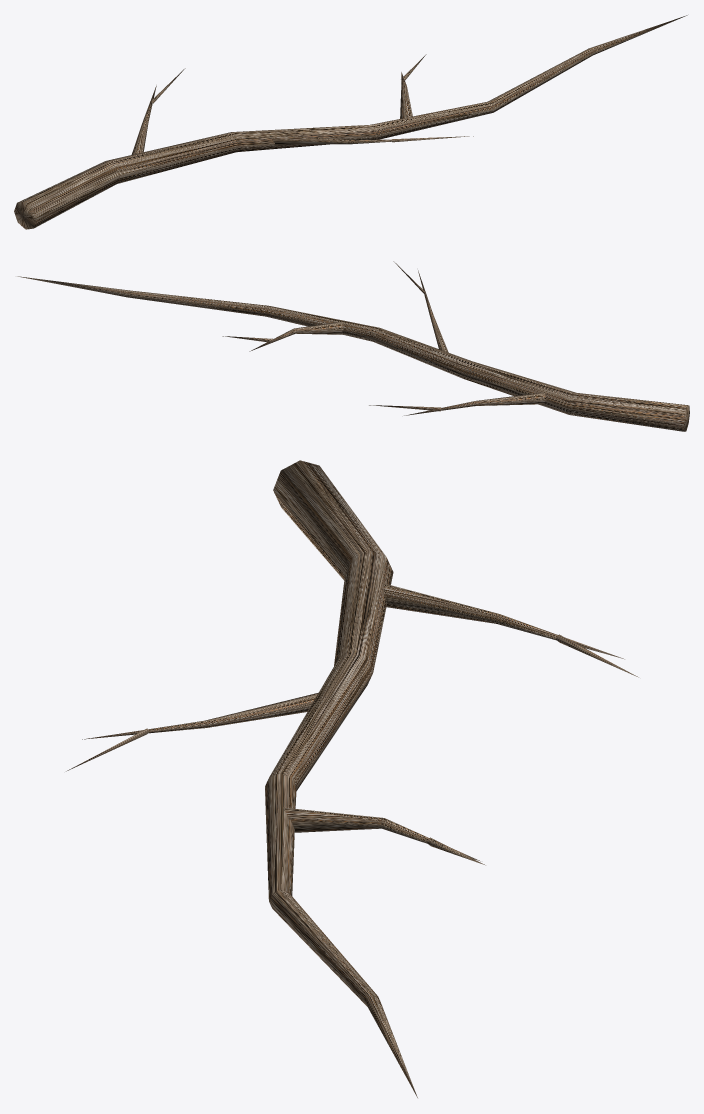
The model's file is fallen-bare-twig.glb.
3 renders of one model, top to bottom at view 1: azimuth 30°, elevation 25°; view 2: azimuth 150°, elevation 25°; view 3: azimuth 270°, elevation 25°, orthographic. The views are drawn at different scales.
Visible parts, largest first — view 1: bare-twig; view 2: bare-twig; view 3: bare-twig.
Part boxes in pixels (x1,y1,x2,y2): bare-twig: (14, 15, 687, 229); bare-twig: (17, 261, 689, 431); bare-twig: (66, 460, 638, 1097).
Size of the model in its own units: 0.523 by 0.0346 by 0.2024.
Materials: 1 (1 with a texture image).
